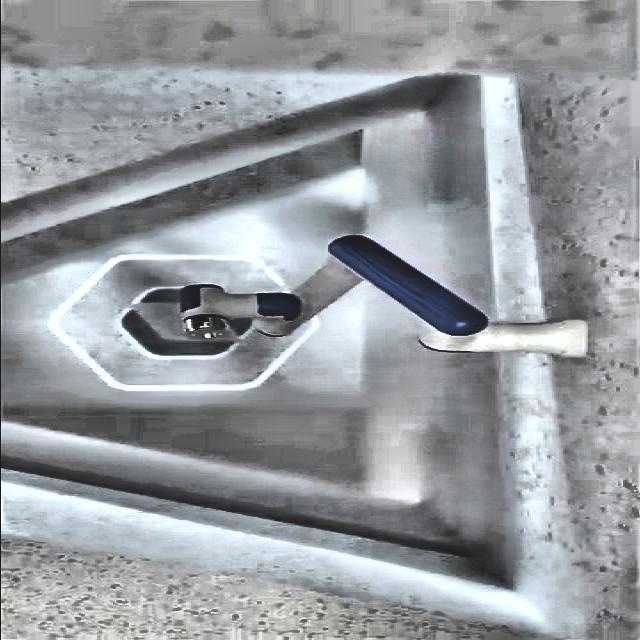robot: (46, 234, 586, 393)
